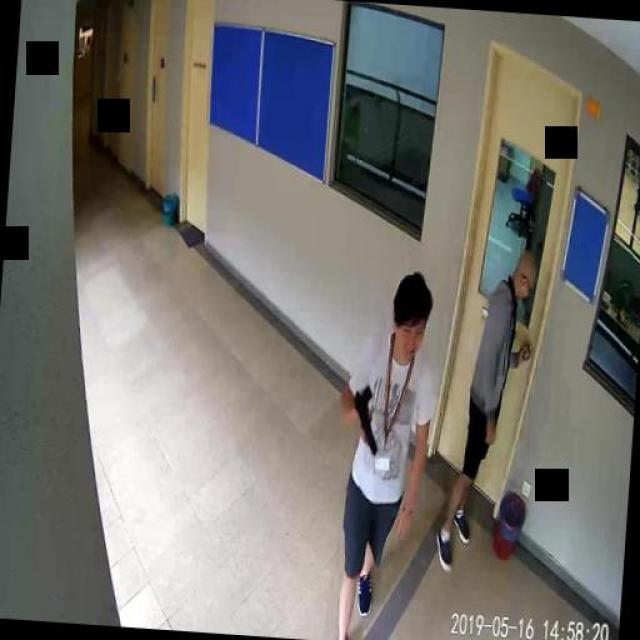gun: (350, 382, 380, 452)
